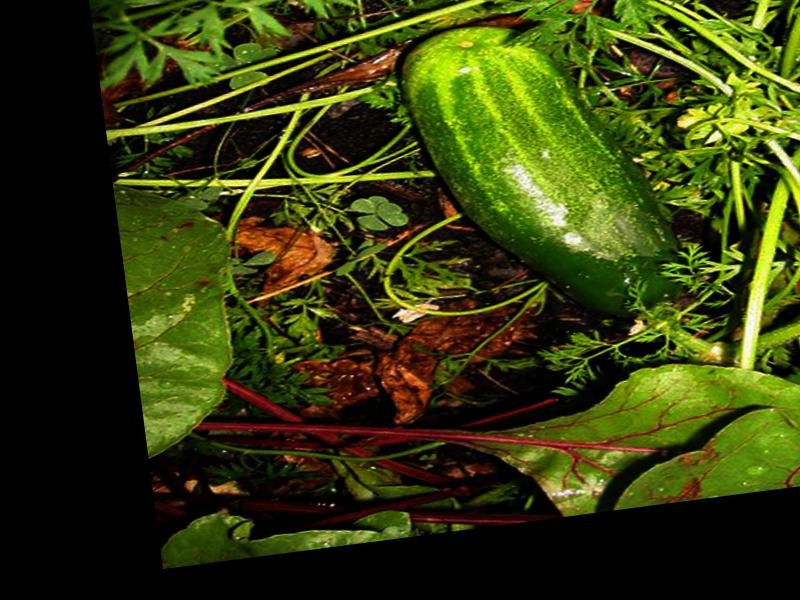Cucumber: (393, 6, 699, 343)
